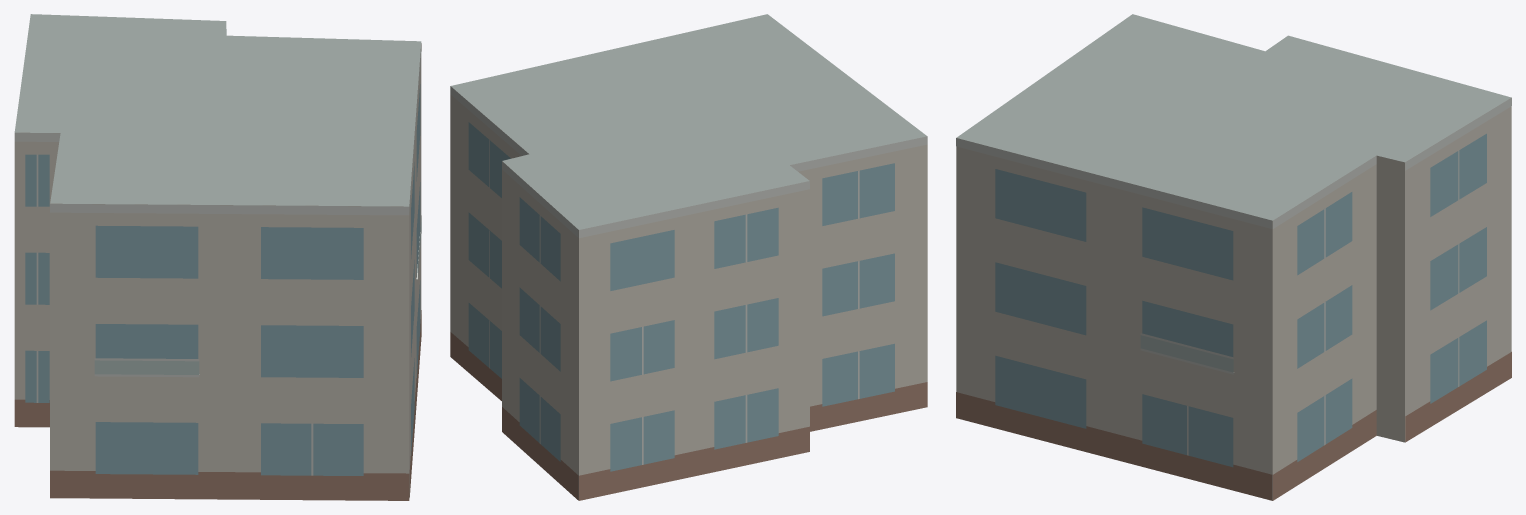
File: survey-upis-32755537.glb
The picture shows the model from 3 angles, left to right: view 1: azimuth 30°, elevation 25°; view 2: azimuth 150°, elevation 25°; view 3: azimuth 270°, elevation 25°; orthographic projection. The views are drawn at different scales.
Parts seen in each view (by area): view 1: survey-upis-32755537.tmp; view 2: survey-upis-32755537.tmp; view 3: survey-upis-32755537.tmp.
Boxes of the visible parts, x1,y1,x2,y2 form: survey-upis-32755537.tmp: [14, 14, 421, 500]; survey-upis-32755537.tmp: [450, 14, 927, 500]; survey-upis-32755537.tmp: [956, 14, 1511, 500].
Size of the model in its own units: 12.66 by 8 by 14.39.
